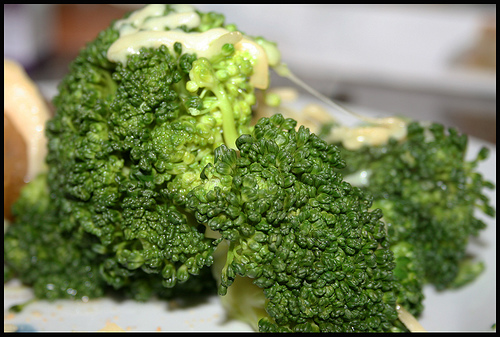broccoli: (199, 118, 399, 333)
